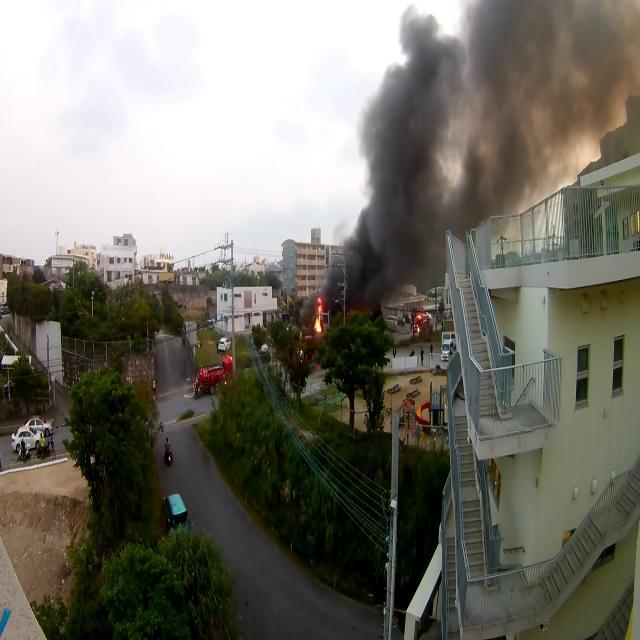Fire: (313, 300, 325, 332)
